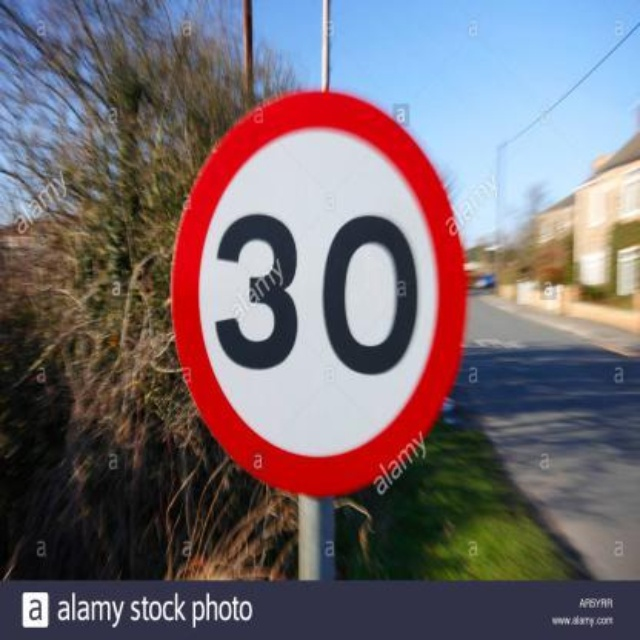Tốc độ tối đa cho phép 30km/h: (173, 89, 465, 497)
